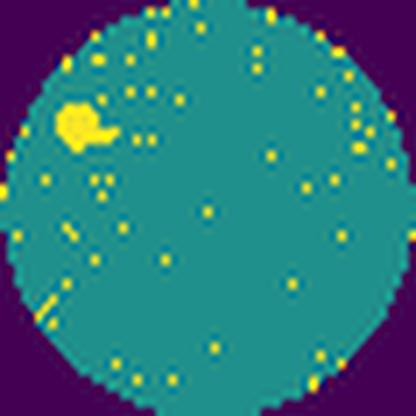Loc: (54, 103, 121, 156)
